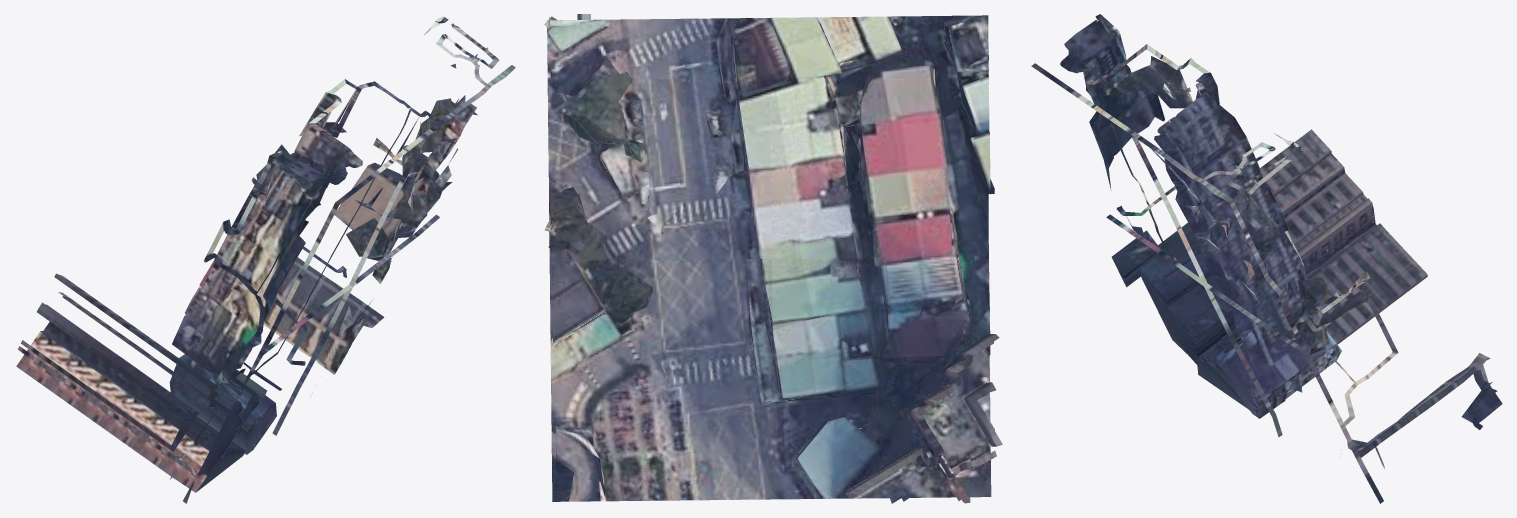
The picture shows the model from 3 angles, left to right: view 1: azimuth 30°, elevation 25°; view 2: azimuth 150°, elevation 25°; view 3: azimuth 270°, elevation 25°; orthographic projection. The views are drawn at different scales.
Size of the model in its own units: 95.23 by 77.32 by 86.36.
1 material, 1 textured.
